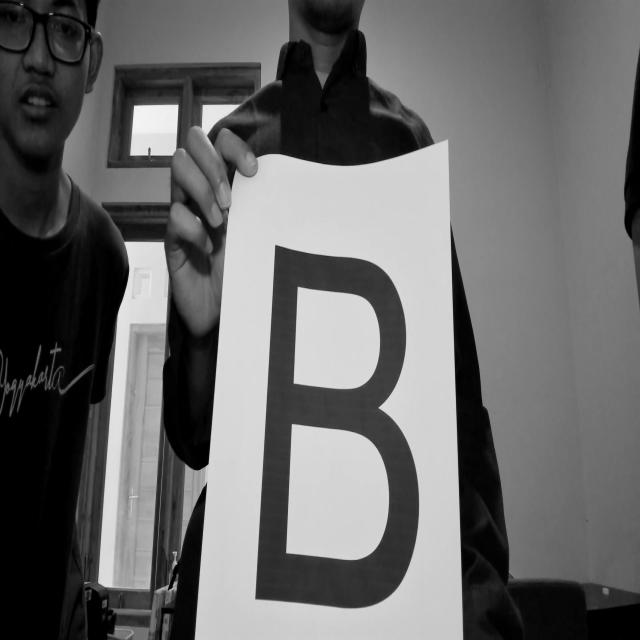b: (253, 237, 441, 630)
